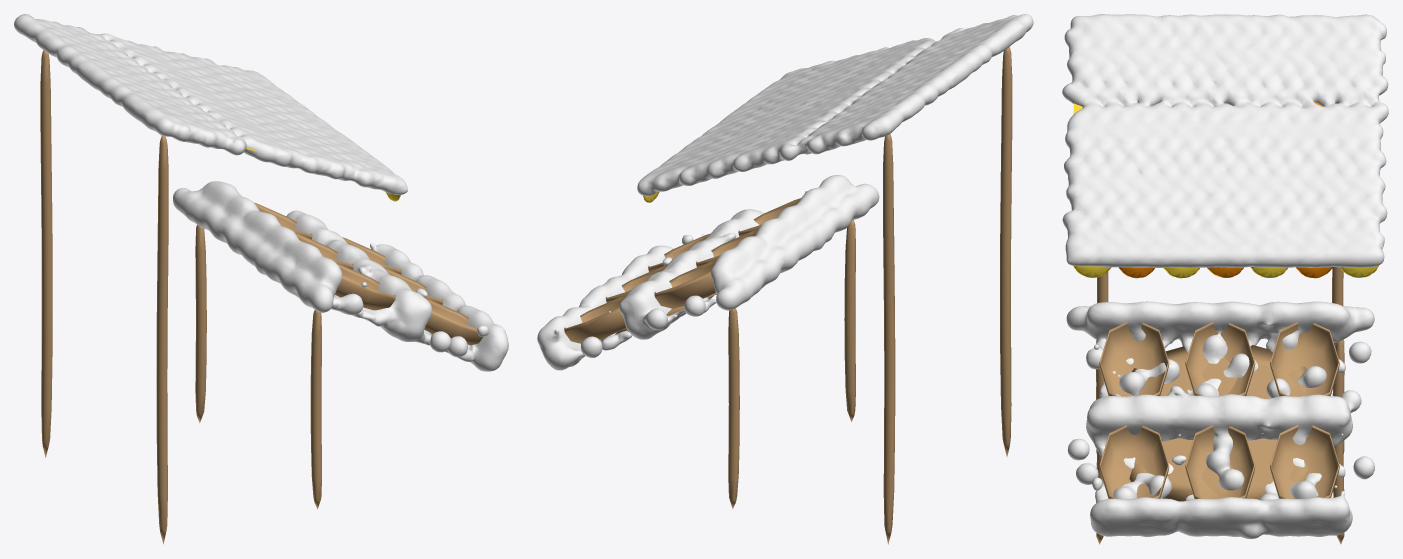
The model's file is Food Display SNOW.fbx.
3 renders of one model, left to right at view 1: azimuth 30°, elevation 25°; view 2: azimuth 150°, elevation 25°; view 3: azimuth 270°, elevation 25°, orthographic. The views are drawn at different scales.
Visible parts, largest first — view 1: SnowBall.001; view 2: SnowBall.001; view 3: SnowBall.001.
Part boxes in pixels (x1,y1,x2,y2): SnowBall.001: [14, 14, 508, 544]; SnowBall.001: [537, 14, 1033, 544]; SnowBall.001: [1062, 14, 1388, 544].
Size of the model in its own units: 234 by 267 by 177.
